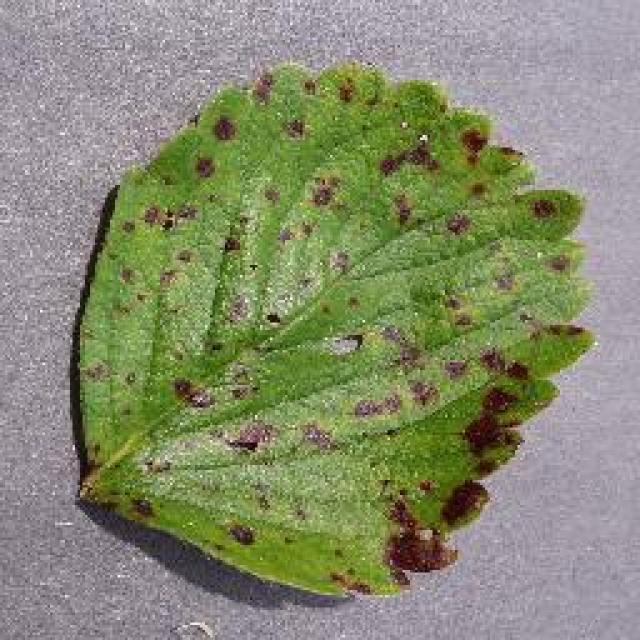Strawberry leaf scorch: (165, 152, 483, 533)
